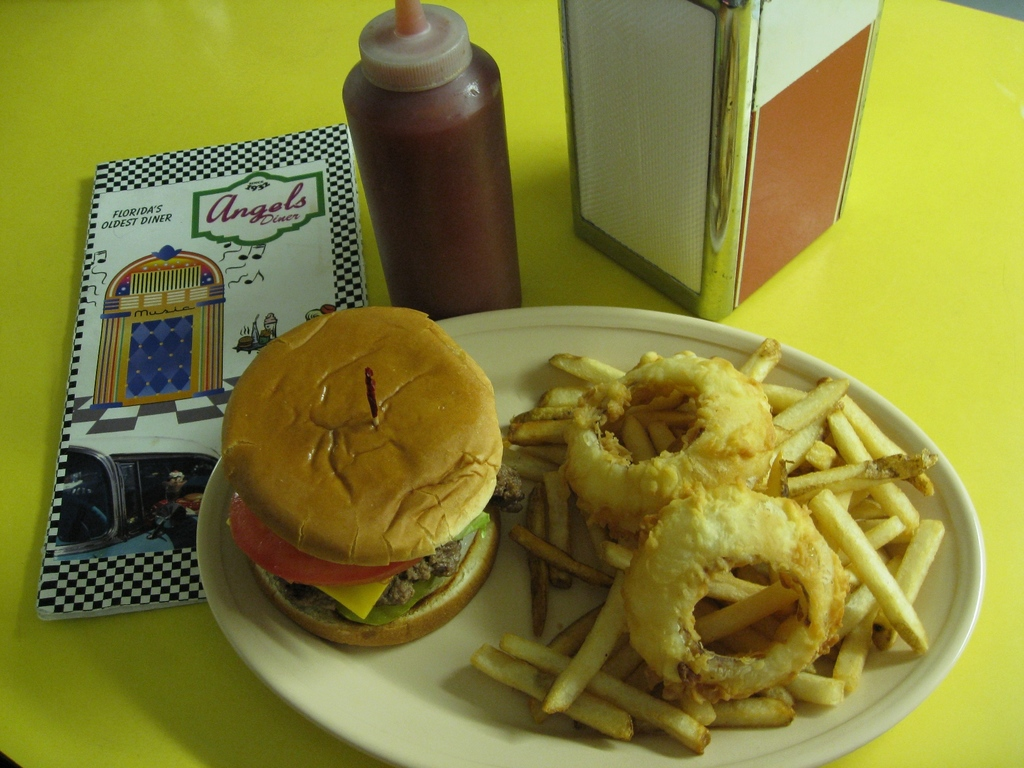French fries: (465, 325, 951, 757)
